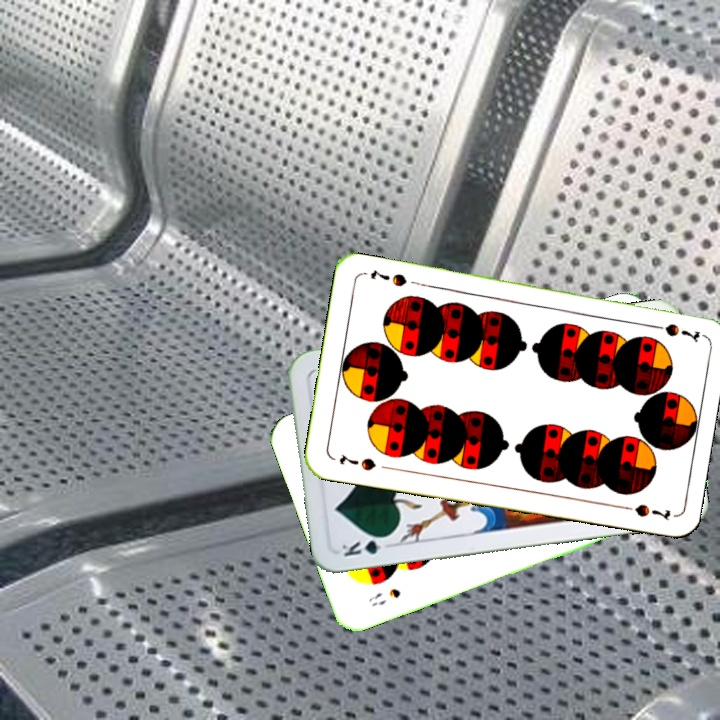GK: (337, 532, 394, 559)
S7: (645, 319, 702, 344), (335, 450, 379, 473)
S8: (364, 584, 404, 609)
